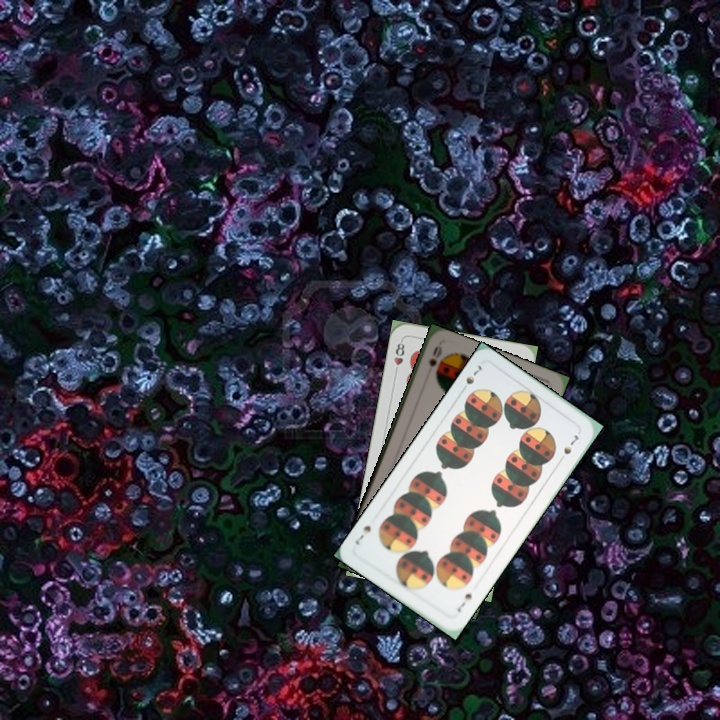H8: (390, 336, 407, 376)
S7: (462, 361, 485, 387), (453, 589, 475, 615)
SO: (425, 342, 445, 370)
